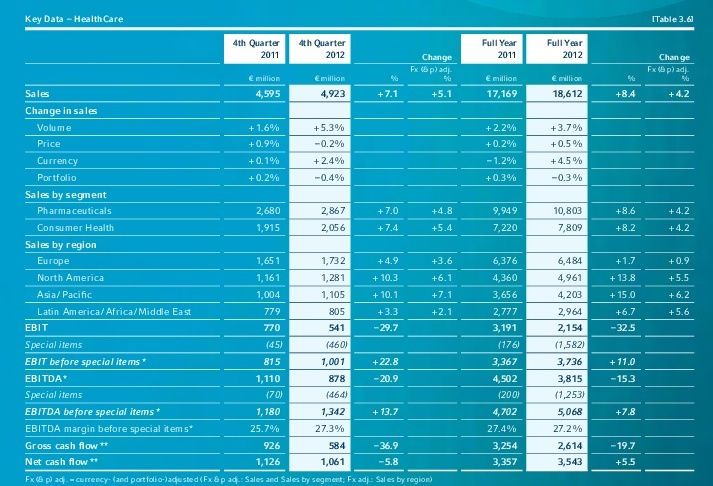table: (0, 0, 713, 486)
